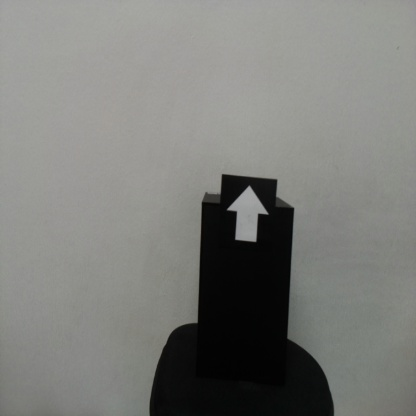id_1: (221, 178, 276, 255)
